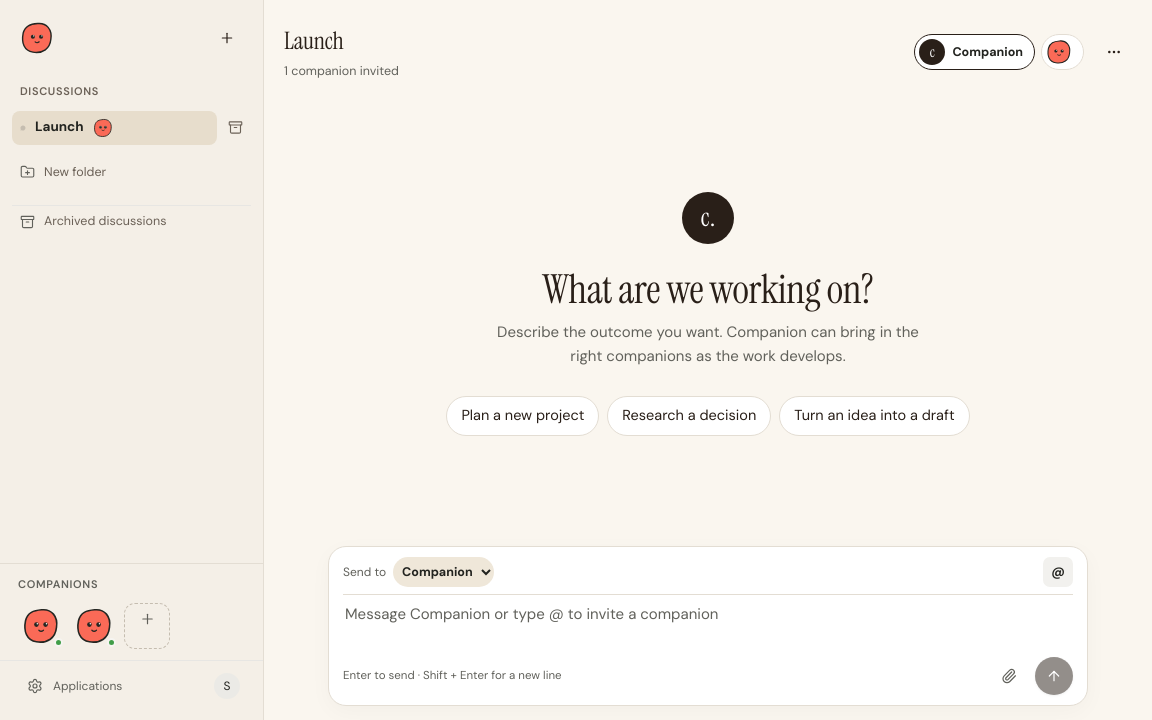
it: discussions workspace › preserves composing text and dismisses mentions without altering the draft
Step 1. Type "@Ad" into the text box labelled "Message Companion" → (708, 626), box x1=343 y1=594 x2=1073 y2=657
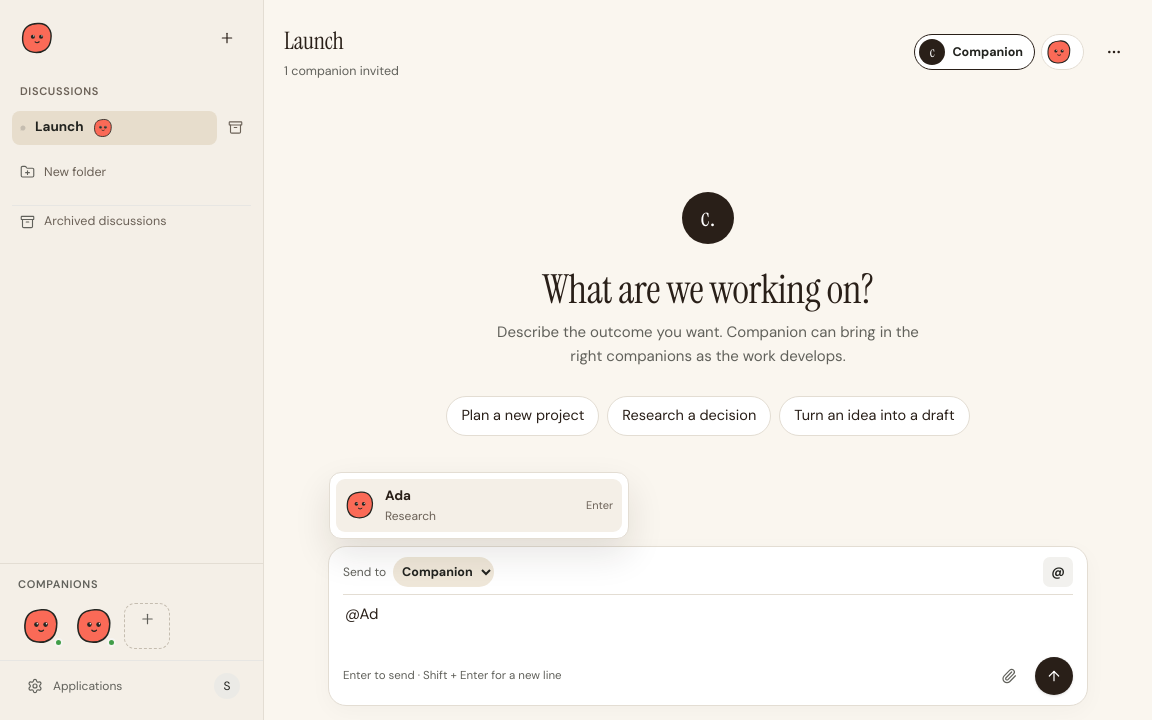
Step 2. Press Enter in the text box named "Message Companion", box x1=343 y1=594 x2=1073 y2=657
Expected: the dropdown named "Message recipient" shows "Companion", x1=393 y1=556 x2=494 y2=586
Step 3. Press Escape in the text box named "Message Companion", box x1=343 y1=594 x2=1073 y2=657
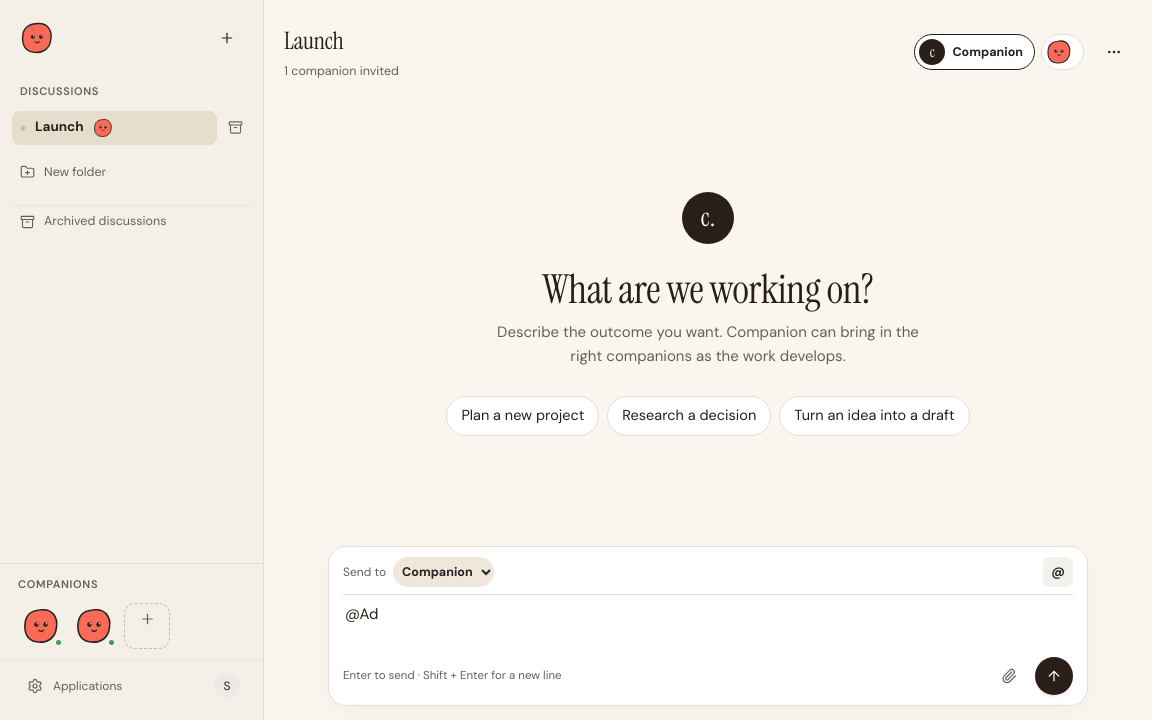
Now the list is gone
